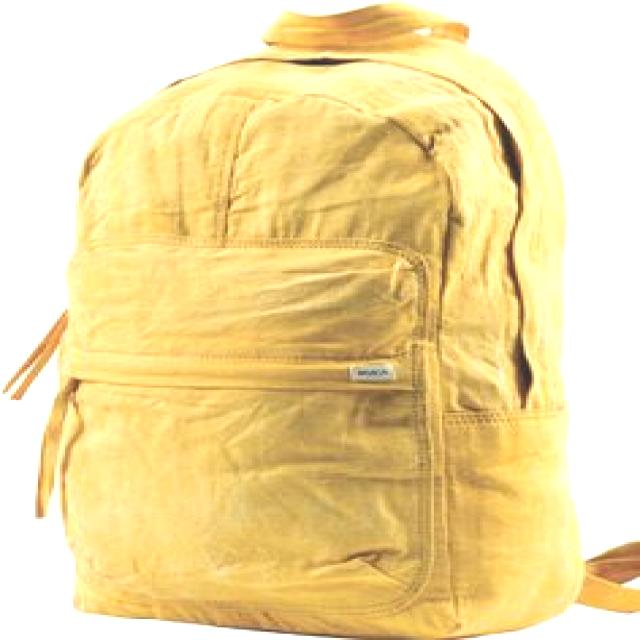backpack: (1, 1, 638, 639)
